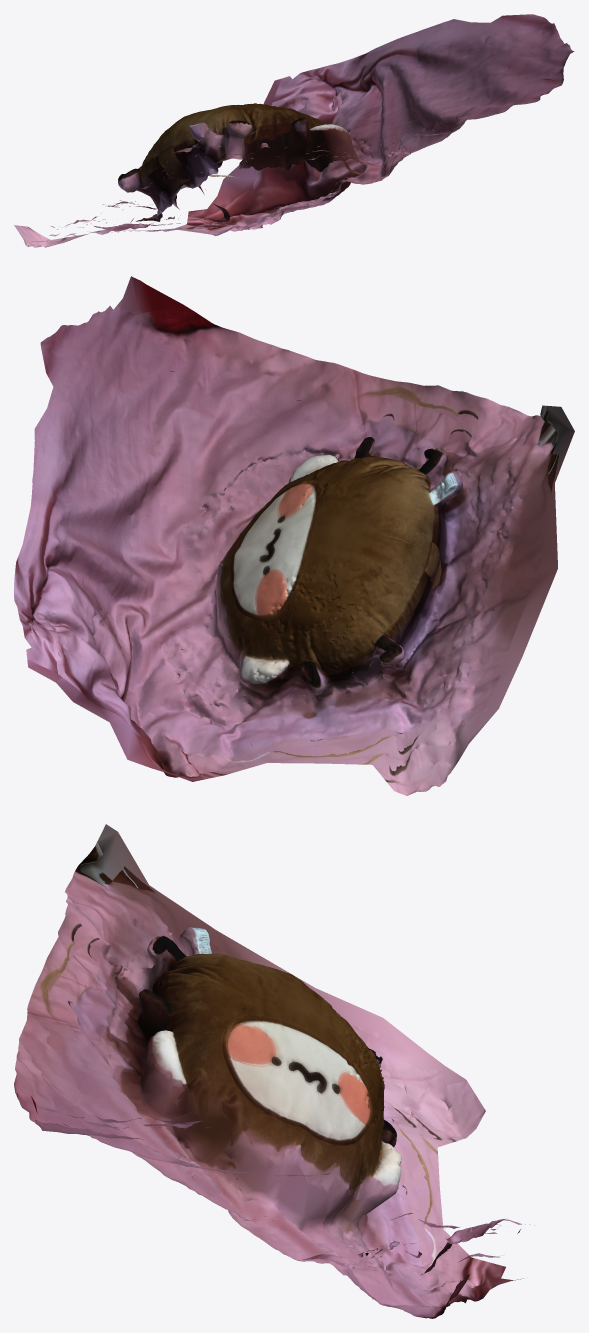
The model's file is monkey.glb.
3 renders of one model, top to bottom at view 1: azimuth 30°, elevation 25°; view 2: azimuth 150°, elevation 25°; view 3: azimuth 270°, elevation 25°, orthographic. The views are drawn at different scales.
Visible parts, largest first — view 1: Object_4; view 2: Object_4; view 3: Object_4.
Part boxes in pixels (<box>): Object_4: <box>14,14,574,247</box>; Object_4: <box>14,276,574,795</box>; Object_4: <box>14,824,530,1318</box>.
Bounding box in the file's own units: 12.59 × 6.81 × 9.86.
1 material, 1 textured.
